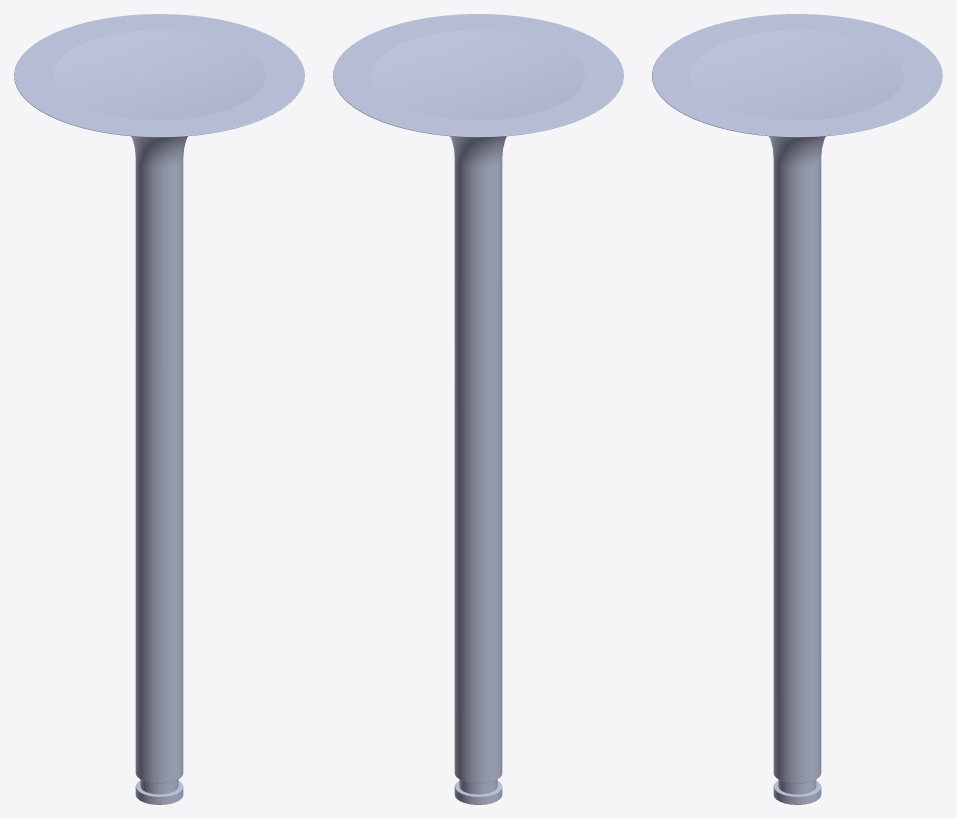
The model's file is Intake_Valve.glb.
The picture shows the model from 3 angles, left to right: view 1: azimuth 30°, elevation 25°; view 2: azimuth 150°, elevation 25°; view 3: azimuth 270°, elevation 25°; orthographic projection.
Parts seen in each view (by area): view 1: Intake Valve; view 2: Intake Valve; view 3: Intake Valve.
Part boxes in pixels (x1,y1,x2,y2): Intake Valve: (14,14,304,804); Intake Valve: (333,14,623,804); Intake Valve: (652,14,942,804).
Bounding box in the file's own units: 0.0305 × 0.0833 × 0.0305.
